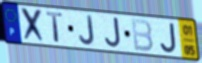B: (130, 17, 155, 53)
J: (159, 21, 178, 54), (104, 17, 122, 50), (78, 14, 96, 47)
T: (45, 10, 64, 44)
X: (20, 6, 47, 45)
